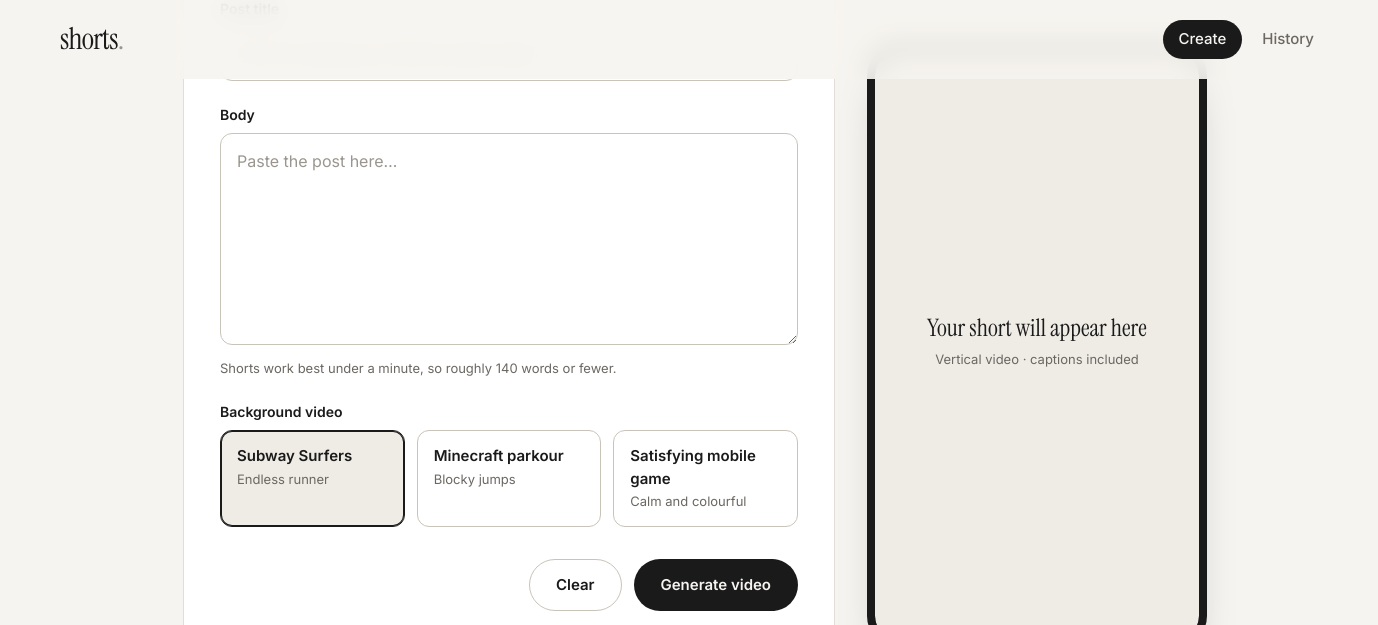
Test: client-side validation › blocks submission and flags every empty field
(page scrolled)
Click the button "Generate video" at (716, 585), box left=634, top=559, right=798, bottom=611
(page scrolled)
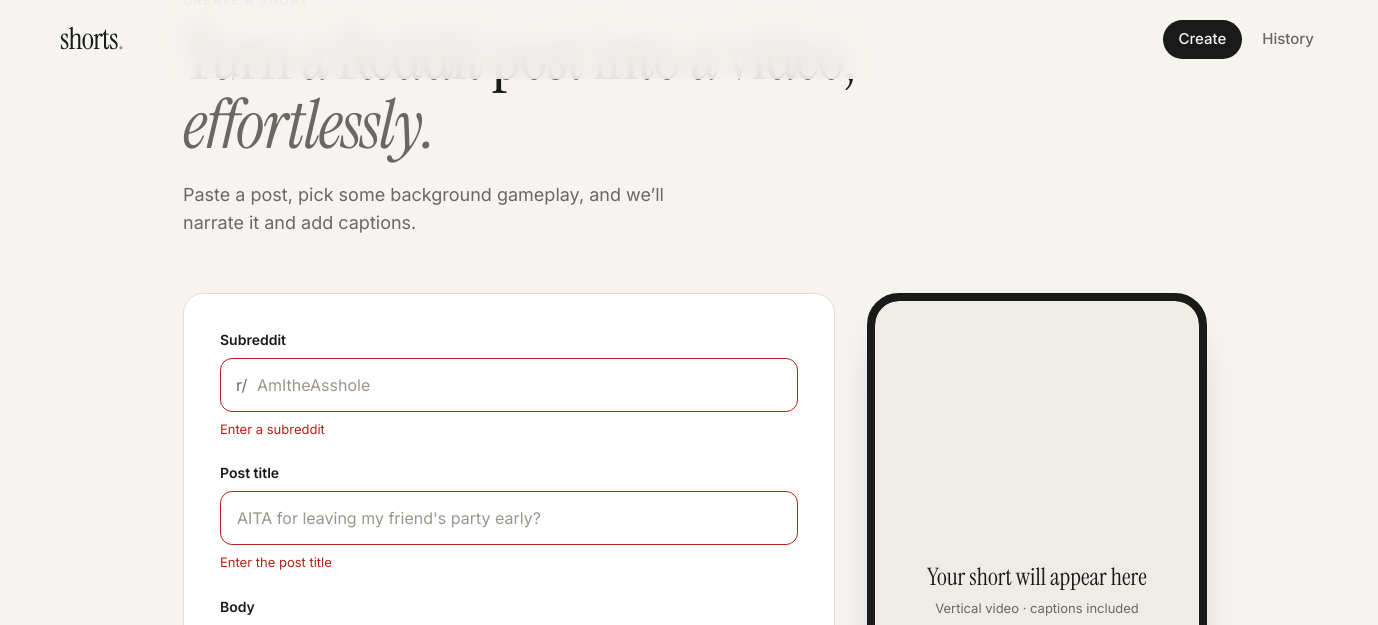
Expected: the text "Enter a subreddit" is shown, left=220, top=421, right=325, bottom=437
Expected: the text "Enter the post title" is shown, left=220, top=554, right=332, bottom=570
